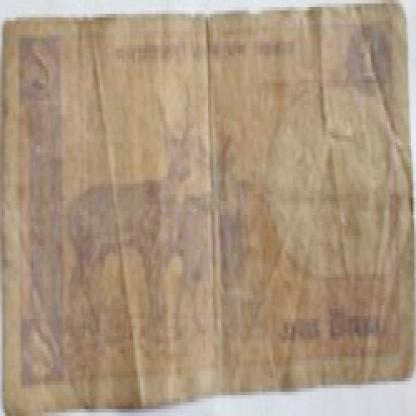One Taka: (276, 305, 393, 357), (20, 319, 65, 388), (22, 38, 58, 104), (353, 38, 381, 90)
